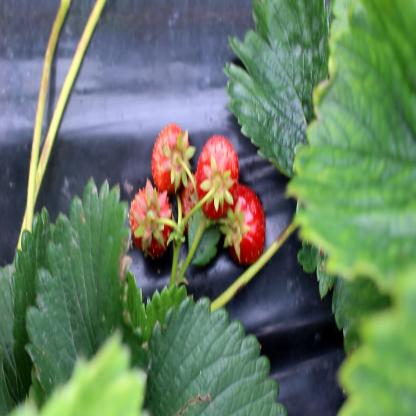ripe: (220, 183, 268, 266), (194, 132, 241, 215), (131, 185, 174, 261), (148, 122, 190, 193), (180, 176, 210, 232)
